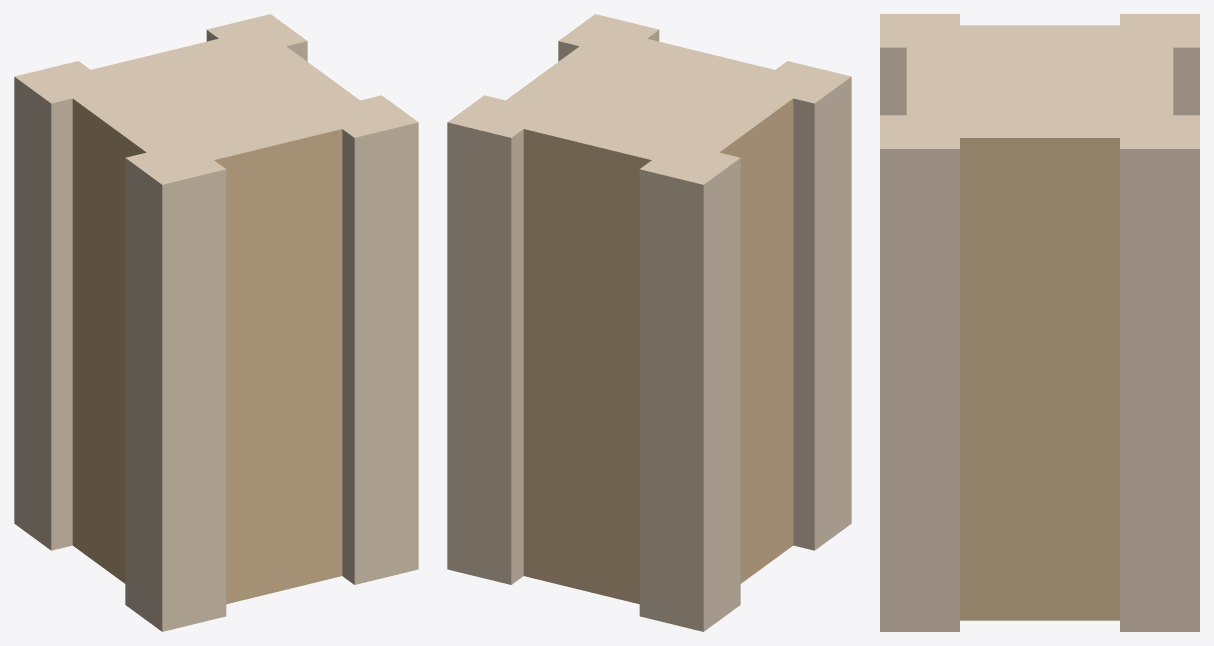
File: temple_Pillar_Large_Middle.glb
The picture shows the model from 3 angles, left to right: view 1: azimuth 30°, elevation 25°; view 2: azimuth 150°, elevation 25°; view 3: azimuth 270°, elevation 25°; orthographic projection. The views are drawn at different scales.
Visible parts, largest first — view 1: object1; view 2: object1; view 3: object1.
Part boxes in pixels (left/top/right/bottom): object1: left=14, top=14, right=418, bottom=631; object1: left=447, top=14, right=851, bottom=631; object1: left=880, top=14, right=1199, bottom=631.
Size of the model in its own units: 0.6 by 1 by 0.6.
